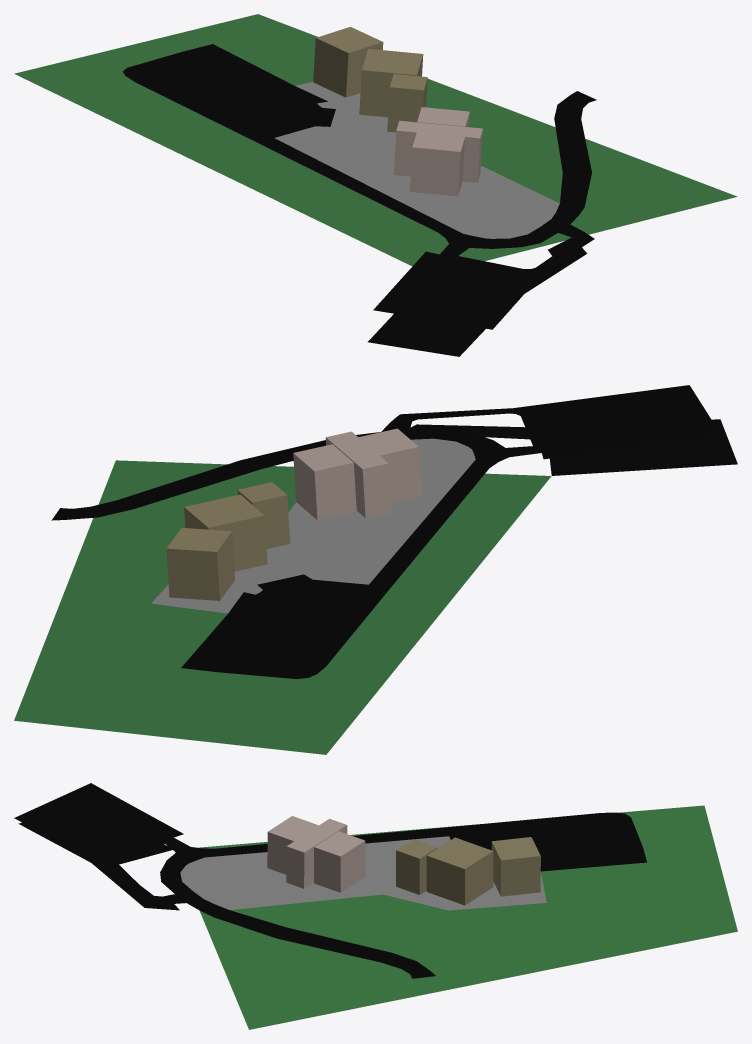
Rendered from church2.glb.
3 renders of one model, top to bottom at view 1: azimuth 30°, elevation 25°; view 2: azimuth 150°, elevation 25°; view 3: azimuth 270°, elevation 25°, orthographic. The views are drawn at different scales.
Visible parts, largest first — view 1: churchlot, Plane.006; view 2: Plane.006, churchlot; view 3: Plane.006, churchlot.
Part boxes in pixels (<box>): churchlot: <box>122,27,596,329</box>; Plane.006: <box>14,14,737,356</box>; Plane.006: <box>14,419,737,754</box>; churchlot: <box>51,385,721,678</box>; Plane.006: <box>18,805,737,1029</box>; churchlot: <box>14,783,646,978</box>.
Bounding box in the file's own units: 0.3096 × 0.0659 × 0.4861.
